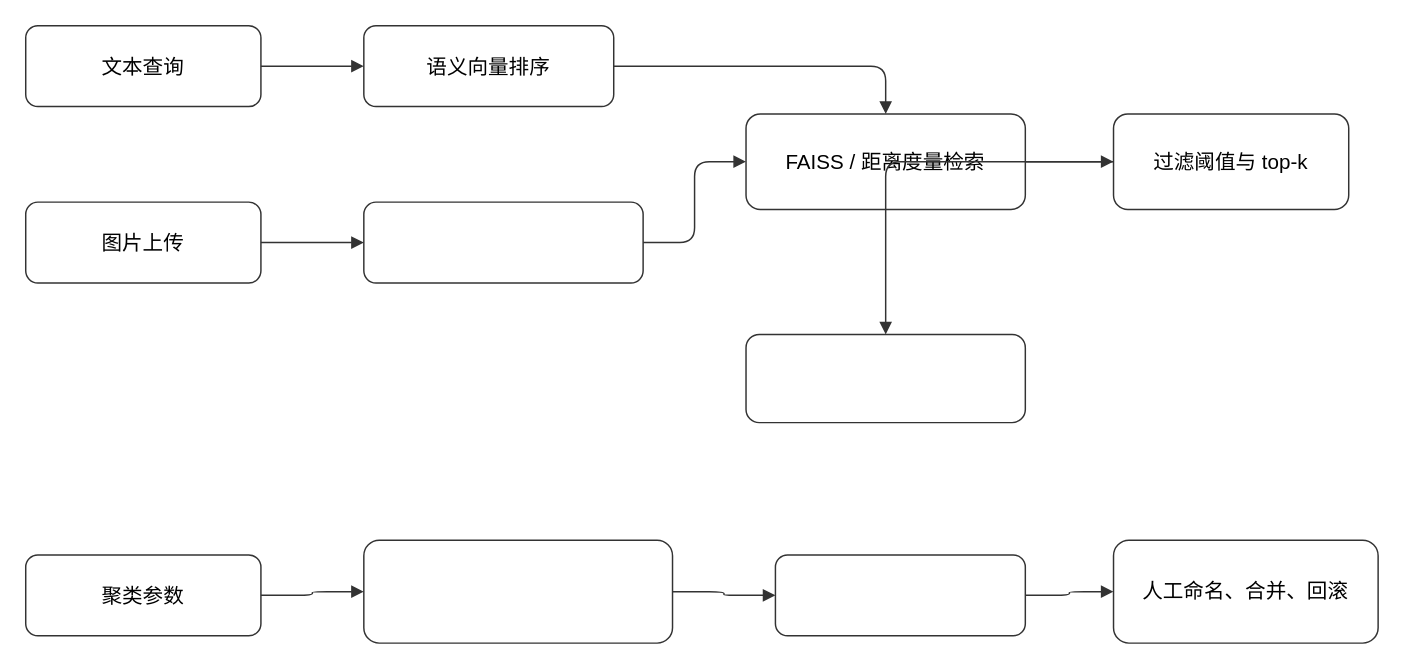
Image size: 1404x669. Some labels were removed from this diagram. Here are the shapes that lost their labels. From the top down, the box of each, then its label:
(362, 201, 643, 283): 提取目标人脸 embedding
(745, 333, 1025, 423): 返回人脸记录与来源
(362, 539, 673, 643): DBSCAN / HDBSCAN / OPTICS
(774, 553, 1025, 636): 写回 person_id
